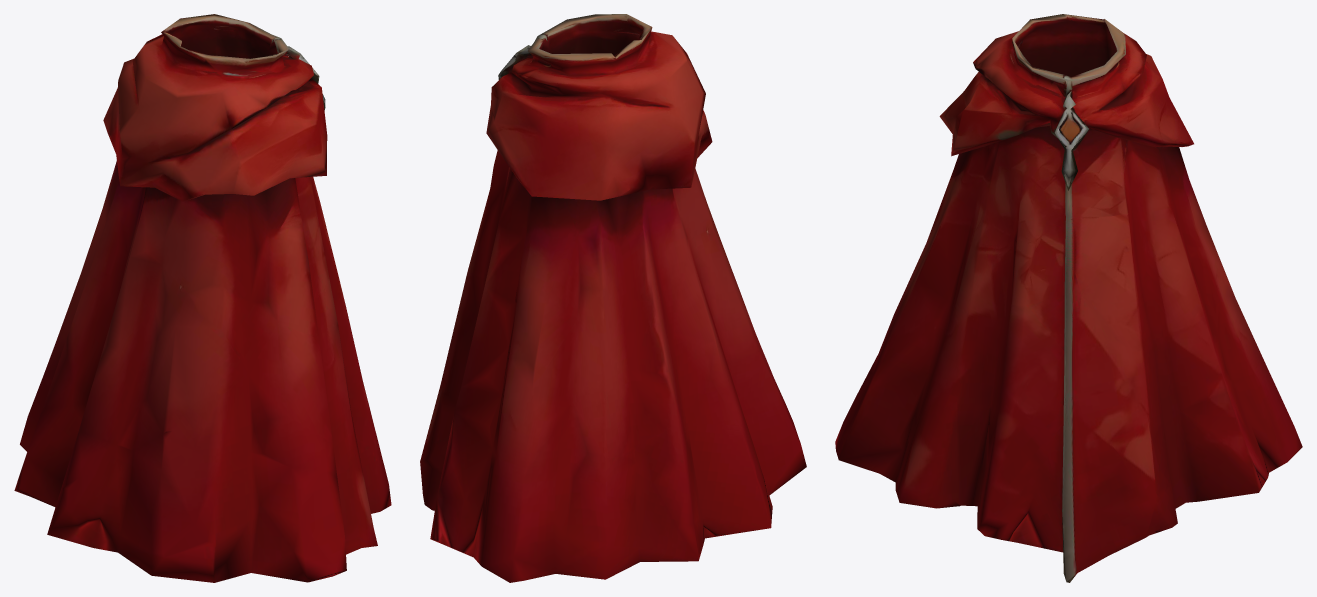
The model's file is item_cape.glb.
The picture shows the model from 3 angles, left to right: view 1: azimuth 30°, elevation 25°; view 2: azimuth 150°, elevation 25°; view 3: azimuth 270°, elevation 25°; orthographic projection. The views are drawn at different scales.
Parts seen in each view (by area): view 1: tripo_node_3f919f48-3ce4-43d5-b3a4-297d135bb3cd; view 2: tripo_node_3f919f48-3ce4-43d5-b3a4-297d135bb3cd; view 3: tripo_node_3f919f48-3ce4-43d5-b3a4-297d135bb3cd.
Boxes of the visible parts, left/top/right/bottom form: tripo_node_3f919f48-3ce4-43d5-b3a4-297d135bb3cd: left=14, top=14, right=391, bottom=582; tripo_node_3f919f48-3ce4-43d5-b3a4-297d135bb3cd: left=420, top=14, right=806, bottom=582; tripo_node_3f919f48-3ce4-43d5-b3a4-297d135bb3cd: left=835, top=14, right=1302, bottom=582.
Bounding box in the file's own units: 0.6877 × 1 × 0.8835.
Materials: 1 (1 with a texture image).
